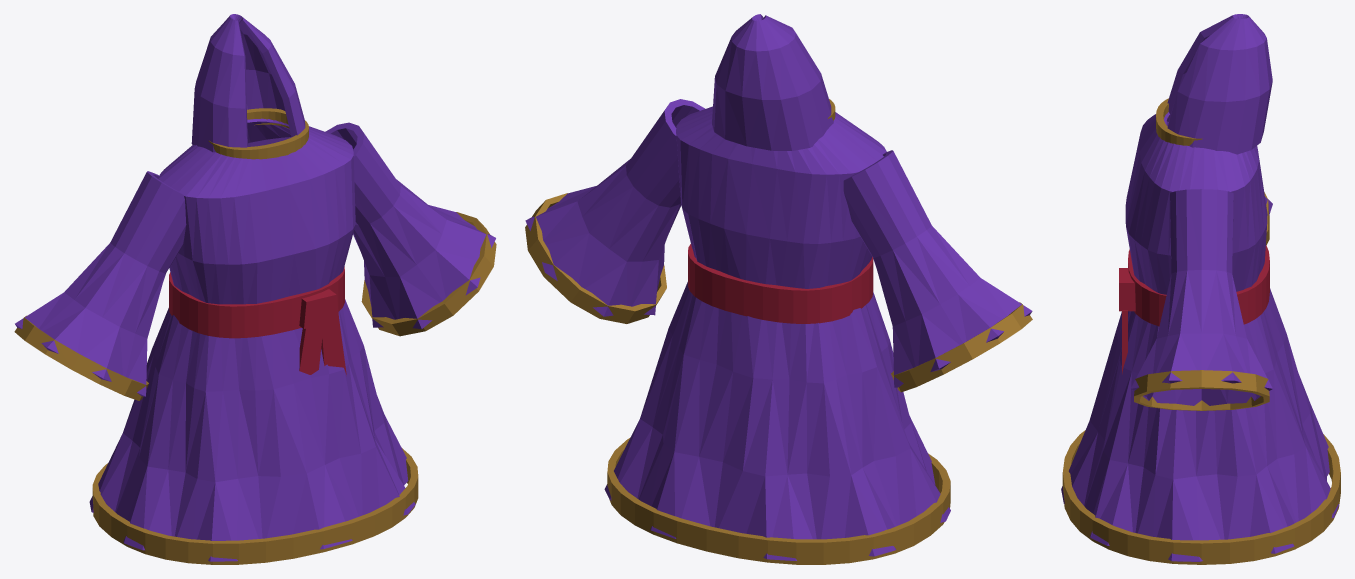
The model's file is mage_robe.obj.
3 renders of one model, left to right at view 1: azimuth 30°, elevation 25°; view 2: azimuth 150°, elevation 25°; view 3: azimuth 270°, elevation 25°, orthographic. The views are drawn at different scales.
Parts seen in each view (by area): view 1: A_Robe.001_robe_cloth, C_Sleeve.001_robe_cloth, B_Hood.001_robe_cloth, D_HemTrim.001_robe_trim, C_CuffTrim.001_robe_trim, E_Sash.001_robe_sash, D_NeckTrim.001_robe_trim, E_Knot.001_robe_sash, E_Tail0.001_robe_sash, E_Tail1.001_robe_sash; view 2: A_Robe.001_robe_cloth, C_Sleeve.001_robe_cloth, B_Hood.001_robe_cloth, D_HemTrim.001_robe_trim, E_Sash.001_robe_sash, C_CuffTrim.001_robe_trim; view 3: A_Robe.001_robe_cloth, C_Sleeve.001_robe_cloth, B_Hood.001_robe_cloth, D_HemTrim.001_robe_trim, C_CuffTrim.001_robe_trim, E_Sash.001_robe_sash, D_NeckTrim.001_robe_trim, E_Knot.001_robe_sash.
Boxes of the visible parts, left/top/right/bottom form: A_Robe.001_robe_cloth: left=89, top=118, right=415, bottom=561; C_Sleeve.001_robe_cloth: left=15, top=122, right=495, bottom=396; B_Hood.001_robe_cloth: left=191, top=14, right=305, bottom=152; D_HemTrim.001_robe_trim: left=92, top=448, right=418, bottom=564; C_CuffTrim.001_robe_trim: left=14, top=212, right=496, bottom=400; E_Sash.001_robe_sash: left=169, top=266, right=344, bottom=338; D_NeckTrim.001_robe_trim: left=208, top=108, right=308, bottom=159; E_Knot.001_robe_sash: left=299, top=289, right=339, bottom=328; E_Tail0.001_robe_sash: left=299, top=324, right=323, bottom=374; E_Tail1.001_robe_sash: left=321, top=320, right=346, bottom=374; A_Robe.001_robe_cloth: left=604, top=106, right=950, bottom=560; C_Sleeve.001_robe_cloth: left=525, top=99, right=1032, bottom=387; B_Hood.001_robe_cloth: left=712, top=14, right=833, bottom=150; D_HemTrim.001_robe_trim: left=607, top=437, right=950, bottom=564; E_Sash.001_robe_sash: left=688, top=244, right=873, bottom=323; C_CuffTrim.001_robe_trim: left=525, top=193, right=1032, bottom=392; A_Robe.001_robe_cloth: left=1061, top=112, right=1338, bottom=561; C_Sleeve.001_robe_cloth: left=1130, top=189, right=1272, bottom=405; B_Hood.001_robe_cloth: left=1166, top=14, right=1272, bottom=154; D_HemTrim.001_robe_trim: left=1062, top=430, right=1340, bottom=564; C_CuffTrim.001_robe_trim: left=1134, top=192, right=1269, bottom=410; E_Sash.001_robe_sash: left=1128, top=245, right=1269, bottom=326; D_NeckTrim.001_robe_trim: left=1156, top=98, right=1202, bottom=145; E_Knot.001_robe_sash: left=1119, top=268, right=1135, bottom=311.
Bounding box in the file's own units: 3.65 × 3.56 × 1.89.
